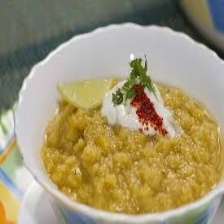dal: (41, 74, 224, 210)
